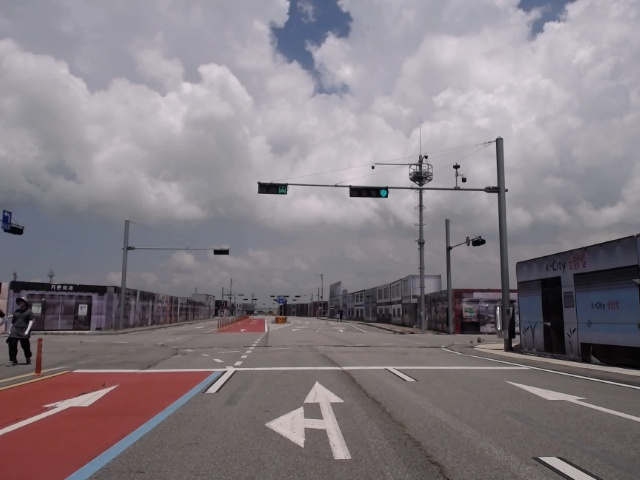straight_green_4: (348, 185, 390, 199)
